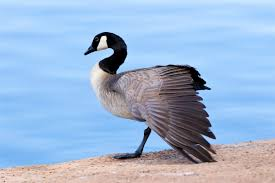goose: (80, 29, 225, 165)
